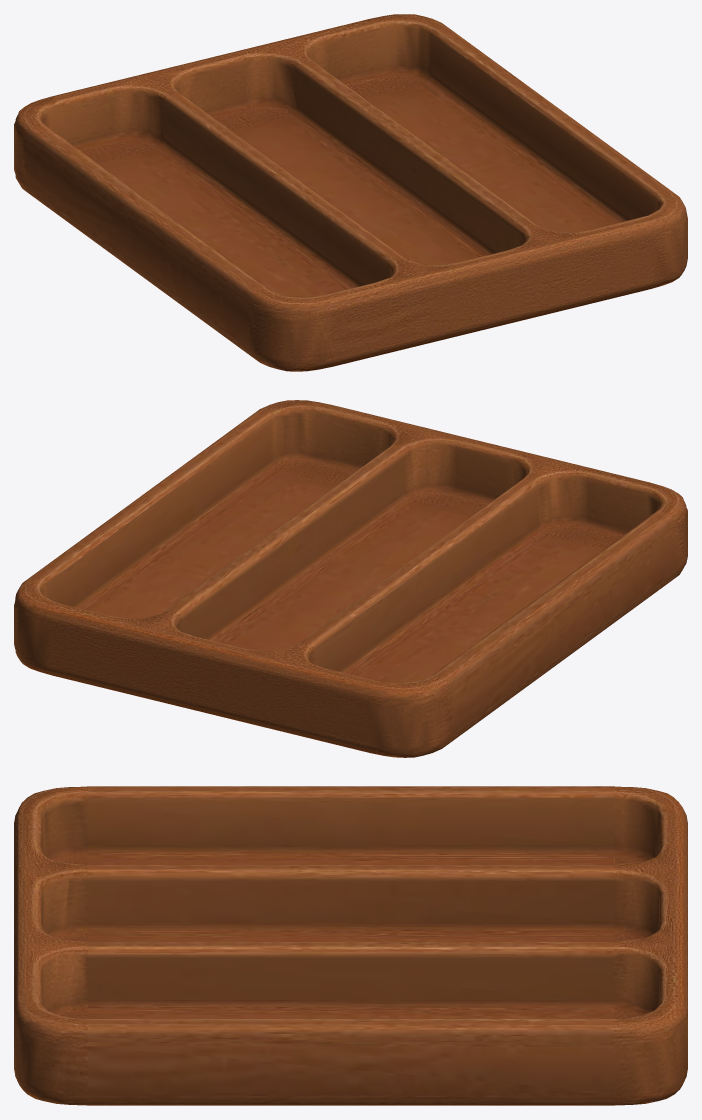
The model's file is review-tray-lod1.glb.
3 views of the same model, one above another, from view 1: azimuth 30°, elevation 25°; view 2: azimuth 150°, elevation 25°; view 3: azimuth 270°, elevation 25° (orthographic). The views are drawn at different scales.
Parts seen in each view (by area): view 1: meshes[0]; view 2: meshes[0]; view 3: meshes[0].
Part boxes in pixels (x1,y1,x2,y2): meshes[0]: (14,14,687,371); meshes[0]: (14,400,687,757); meshes[0]: (14,786,687,1105).
Bounding box in the file's own units: 0.8652 × 0.1309 × 0.998.
Materials: 1 (1 with a texture image).
